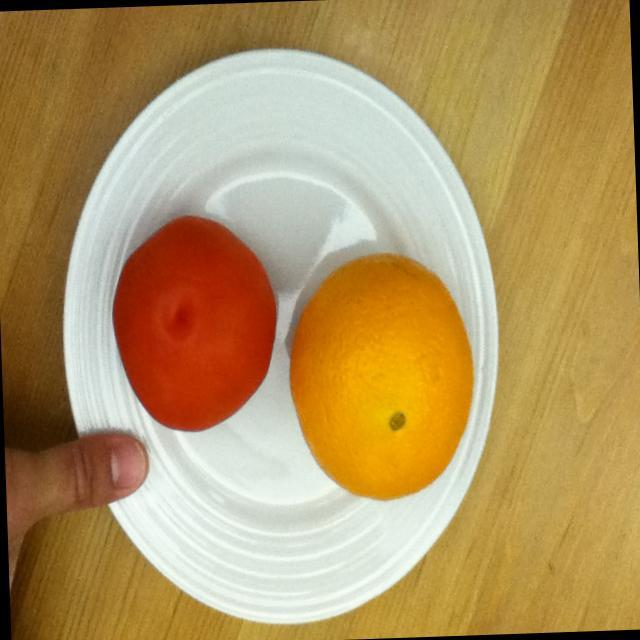Orange: (280, 240, 488, 517)
